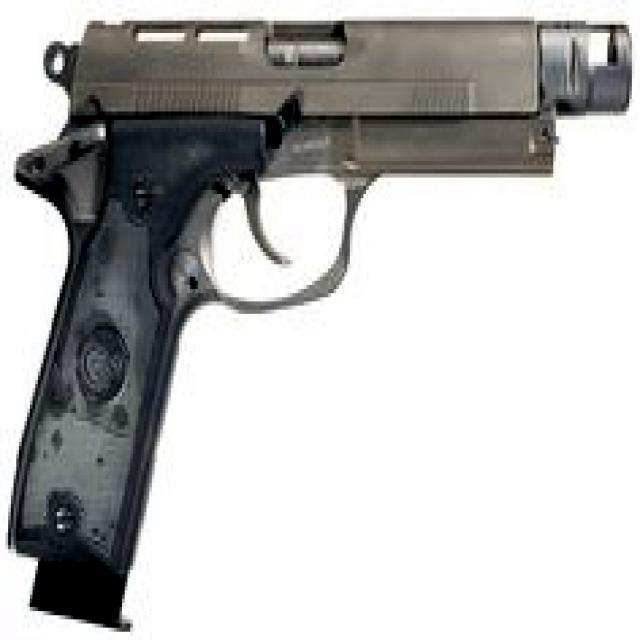semi automatic: (4, 8, 633, 640)
